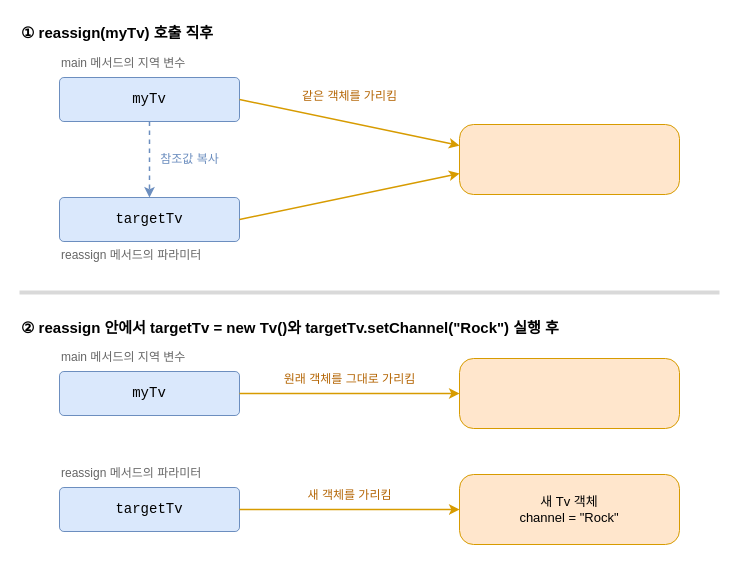
This 738x562 diagram has some shape labels left out. Here are the shapes that lost their labels. From the top down, the centre of each, then its label:
the point at 569,159: Tv 객체 channel = "Classic"
the point at 569,393: 원래 Tv 객체 channel = "Classic"
